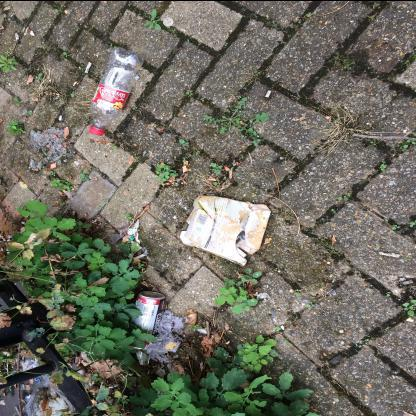karton: (180, 195, 272, 267)
metal: (129, 291, 167, 349)
plastik: (89, 47, 146, 137)
